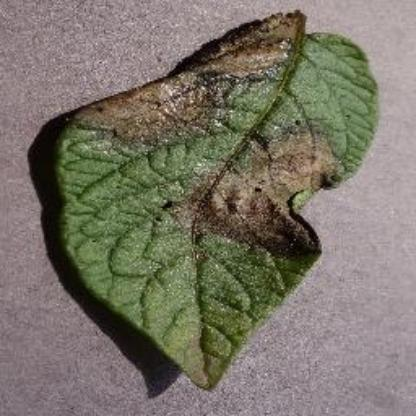Late-Blight: (46, 11, 378, 390)
